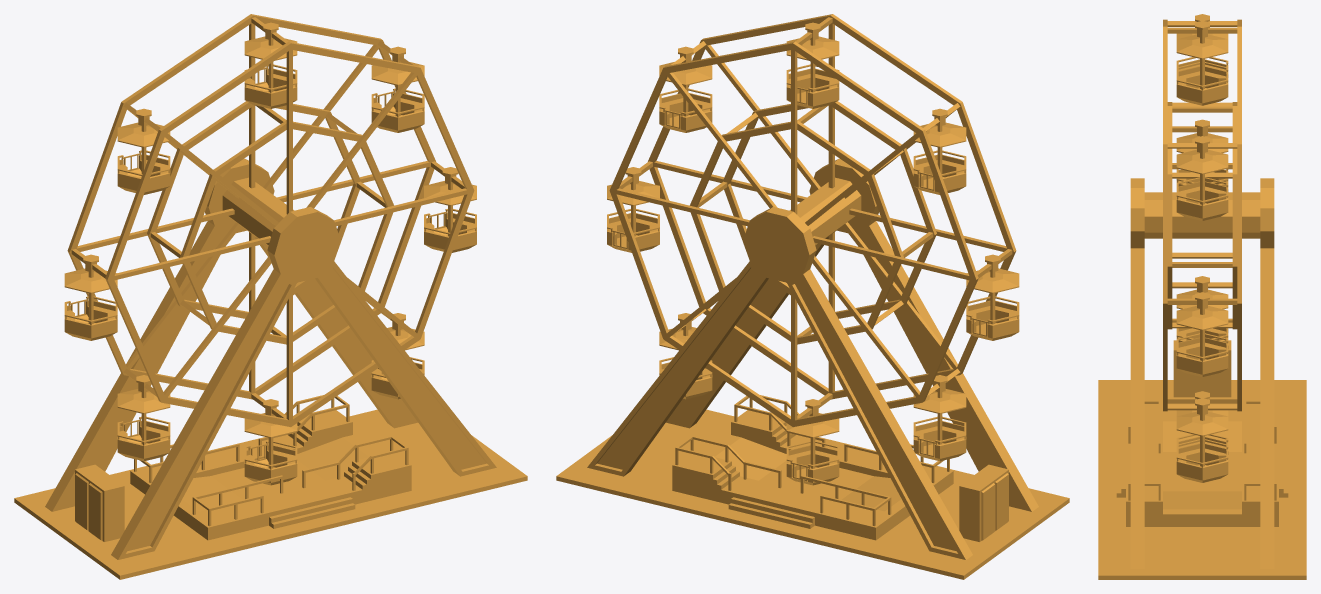
File: ferris-wheel.glb
3 views of the same model, side by side, from view 1: azimuth 30°, elevation 25°; view 2: azimuth 150°, elevation 25°; view 3: azimuth 270°, elevation 25° (orthographic).
Parts seen in each view (by area): view 1: ferris-wheel-stand, ferris-wheel-main, ferris-wheel-gondola8, ferris-wheel-gondola7, ferris-wheel-gondola1, ferris-wheel-gondola6, ferris-wheel-gondola5, ferris-wheel-gondola4, ferris-wheel-gondola3, ferris-wheel-gondola2; view 2: ferris-wheel-stand, ferris-wheel-main, ferris-wheel-gondola8, ferris-wheel-gondola7, ferris-wheel-gondola1, ferris-wheel-gondola6, ferris-wheel-gondola5, ferris-wheel-gondola4, ferris-wheel-gondola3, ferris-wheel-gondola2; view 3: ferris-wheel-stand, ferris-wheel-main, ferris-wheel-gondola4, ferris-wheel-gondola5, ferris-wheel-gondola3, ferris-wheel-gondola2, ferris-wheel-gondola8, ferris-wheel-gondola7, ferris-wheel-gondola1, ferris-wheel-gondola6.
Boxes of the visible parts, x1=… form: ferris-wheel-stand: x1=14, y1=158, x2=527, y2=579; ferris-wheel-main: x1=67, y1=14, x2=474, y2=426; ferris-wheel-gondola8: x1=117, y1=375, x2=170, y2=461; ferris-wheel-gondola7: x1=64, y1=254, x2=117, y2=340; ferris-wheel-gondola1: x1=244, y1=399, x2=297, y2=485; ferris-wheel-gondola6: x1=117, y1=108, x2=170, y2=194; ferris-wheel-gondola5: x1=244, y1=22, x2=297, y2=108; ferris-wheel-gondola4: x1=371, y1=46, x2=424, y2=132; ferris-wheel-gondola3: x1=424, y1=167, x2=476, y2=252; ferris-wheel-gondola2: x1=371, y1=313, x2=424, y2=399; ferris-wheel-stand: x1=556, y1=158, x2=1069, y2=579; ferris-wheel-main: x1=609, y1=14, x2=1016, y2=426; ferris-wheel-gondola8: x1=913, y1=375, x2=966, y2=461; ferris-wheel-gondola7: x1=966, y1=254, x2=1019, y2=340; ferris-wheel-gondola1: x1=786, y1=399, x2=839, y2=485; ferris-wheel-gondola6: x1=913, y1=108, x2=966, y2=194; ferris-wheel-gondola5: x1=786, y1=22, x2=839, y2=108; ferris-wheel-gondola4: x1=659, y1=46, x2=712, y2=132; ferris-wheel-gondola3: x1=607, y1=167, x2=659, y2=252; ferris-wheel-gondola2: x1=659, y1=313, x2=712, y2=399; ferris-wheel-stand: x1=1098, y1=178, x2=1306, y2=579; ferris-wheel-main: x1=1144, y1=19, x2=1260, y2=411; ferris-wheel-gondola4: x1=1176, y1=136, x2=1228, y2=220; ferris-wheel-gondola5: x1=1176, y1=21, x2=1228, y2=105; ferris-wheel-gondola3: x1=1176, y1=292, x2=1228, y2=376; ferris-wheel-gondola2: x1=1176, y1=398, x2=1228, y2=482; ferris-wheel-gondola8: x1=1176, y1=276, x2=1228, y2=342; ferris-wheel-gondola7: x1=1176, y1=119, x2=1228, y2=186; ferris-wheel-gondola1: x1=1176, y1=391, x2=1228, y2=448; ferris-wheel-gondola6: x1=1176, y1=14, x2=1228, y2=71.
Bounding box in the file's own units: 20.22 × 21.81 × 9.
